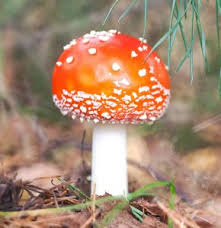Amanita muscaria: (47, 25, 172, 202)
